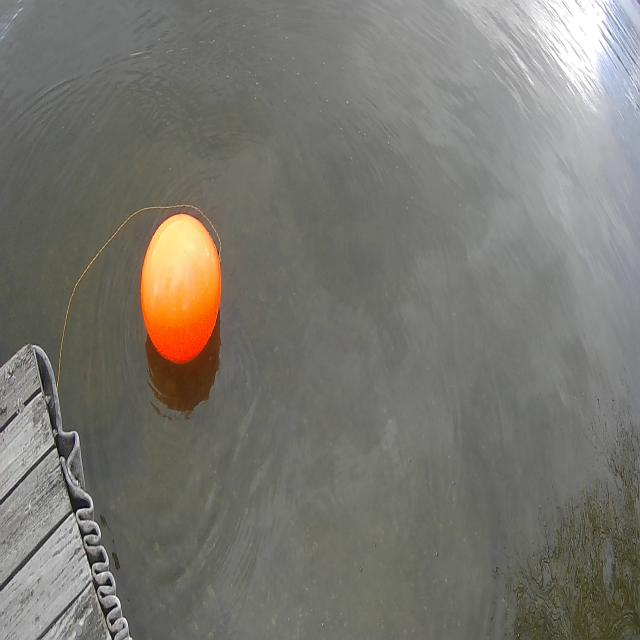Buoy: (138, 208, 224, 368)
